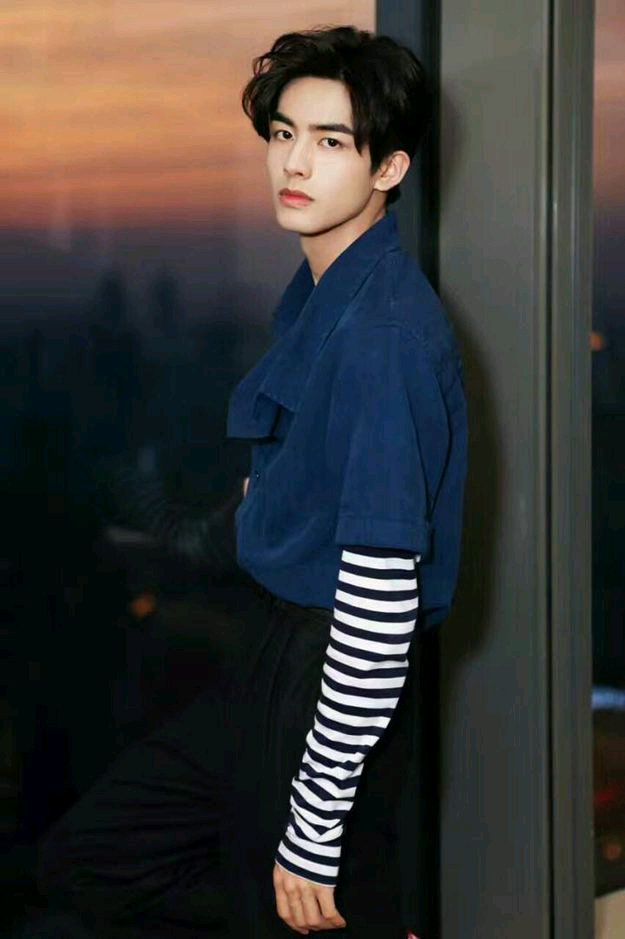person: (133, 37, 525, 831)
